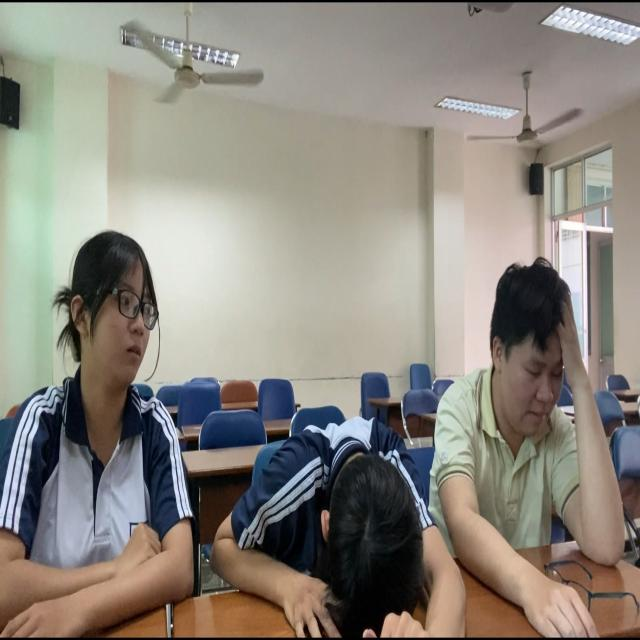sleep: (210, 422, 474, 640)
